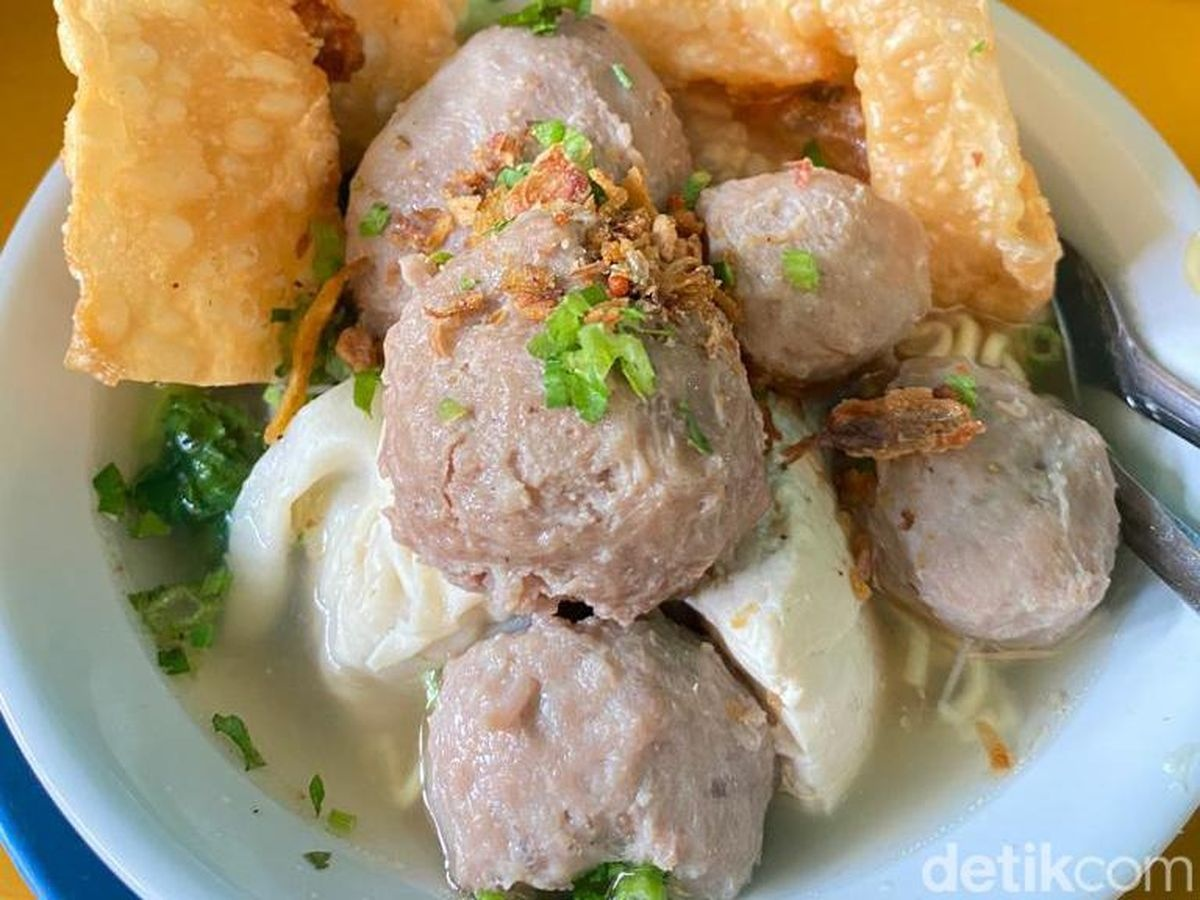bakso_malang: (85, 9, 1121, 900)
